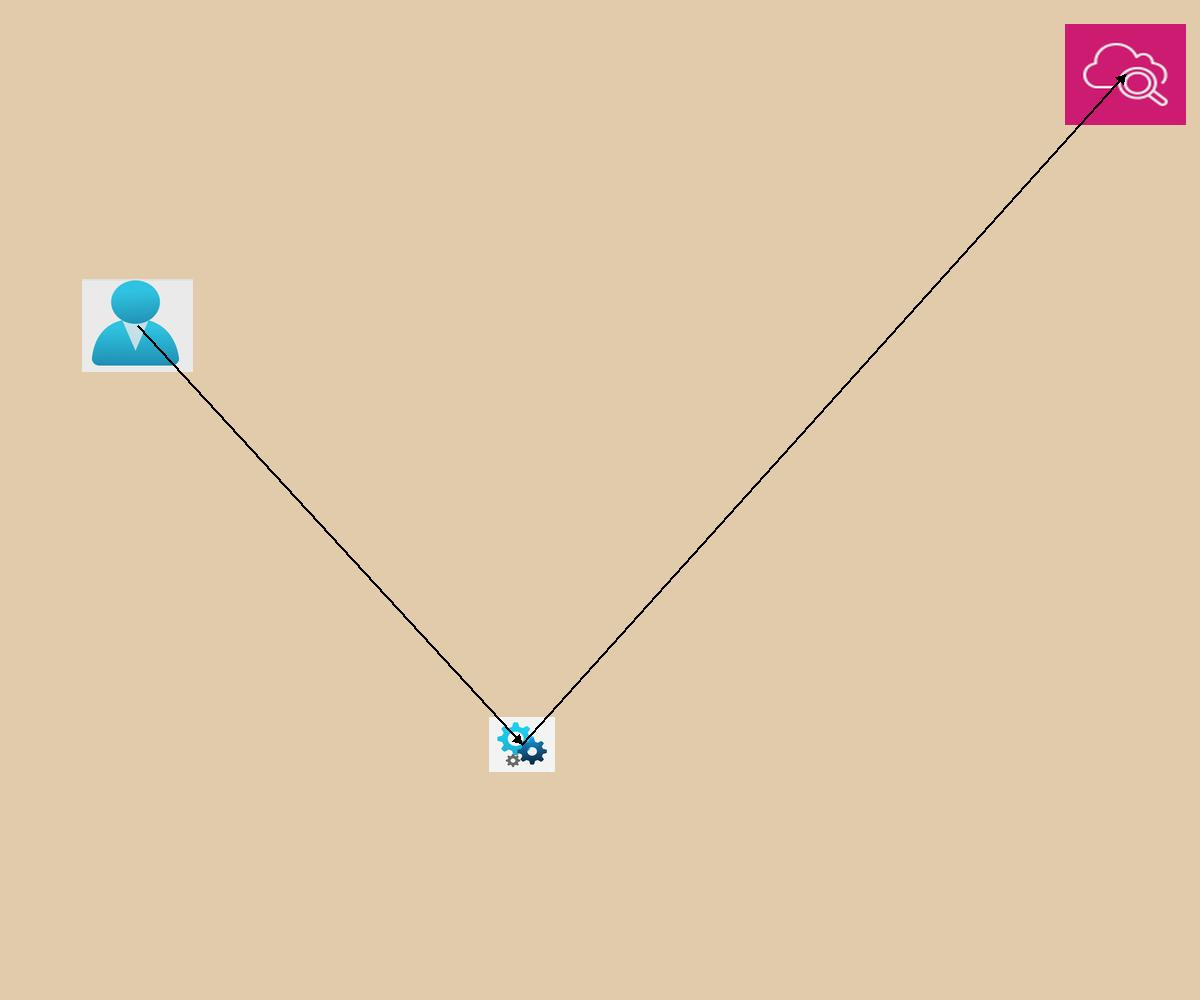AWS-CloudWatch: (1065, 24, 1186, 125)
Azure_api: (489, 717, 555, 772)
Azure_users: (82, 279, 193, 372)
